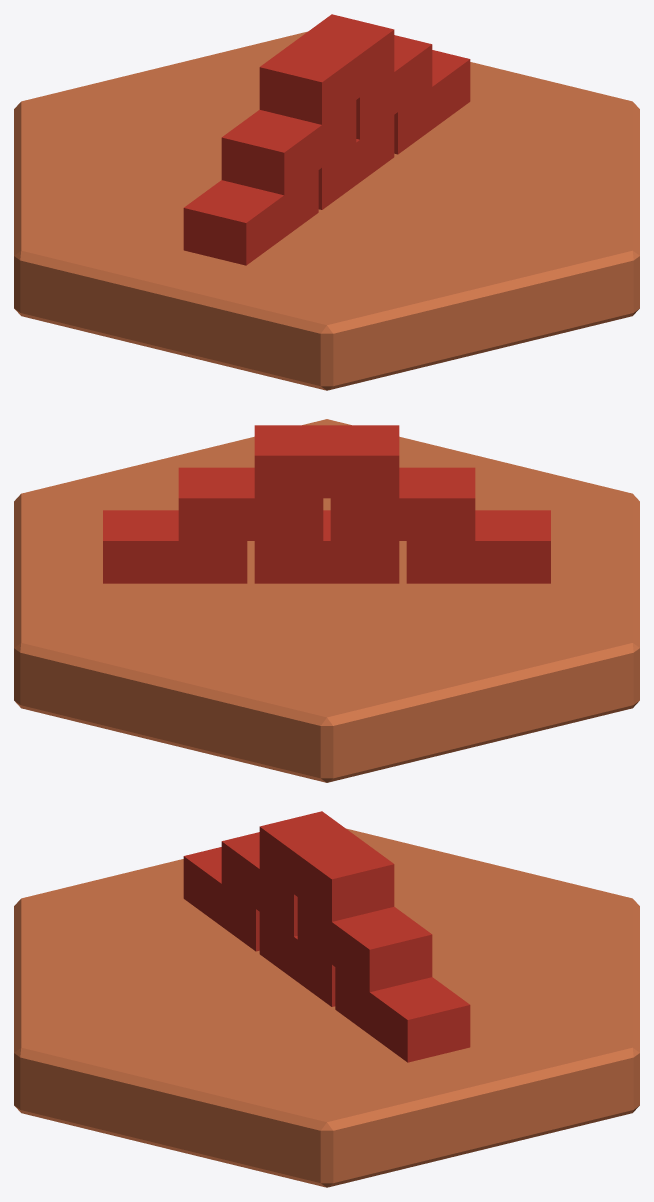
Rendered from brick.glb.
The picture shows the model from 3 angles, top to bottom: view 1: azimuth 30°, elevation 25°; view 2: azimuth 150°, elevation 25°; view 3: azimuth 270°, elevation 25°; orthographic projection.
Visible parts, largest first — view 1: Hex_brick, Cube.005, Cube.003, Cube, Cube.004, Cube.002, Cube.001; view 2: Hex_brick, Cube.005, Cube.003, Cube.004, Cube, Cube.002, Cube.001; view 3: Hex_brick, Cube.005, Cube.004, Cube.002, Cube.003, Cube, Cube.001.
Part boxes in pixels (x1,y1,x2,y2): Hex_brick: (14, 31, 639, 390); Cube.005: (259, 14, 394, 124); Cube.003: (221, 100, 356, 195); Cube: (183, 170, 318, 265); Cube.004: (356, 35, 432, 139); Cube.002: (394, 50, 470, 154); Cube.001: (318, 115, 394, 209); Hex_brick: (14, 419, 639, 782); Cube.005: (254, 425, 399, 498); Cube.003: (330, 467, 475, 540); Cube.004: (178, 467, 323, 540); Cube: (406, 510, 550, 583); Cube.002: (103, 510, 247, 583); Cube.001: (254, 510, 399, 583); Hex_brick: (14, 828, 639, 1187); Cube.005: (259, 811, 394, 921); Cube.004: (297, 897, 432, 992); Cube.002: (335, 967, 470, 1062); Cube.003: (221, 832, 297, 936); Cube: (183, 847, 259, 951); Cube.001: (259, 912, 335, 1006).
Bounding box in the file's own units: 1.98 × 0.59 × 1.73.
